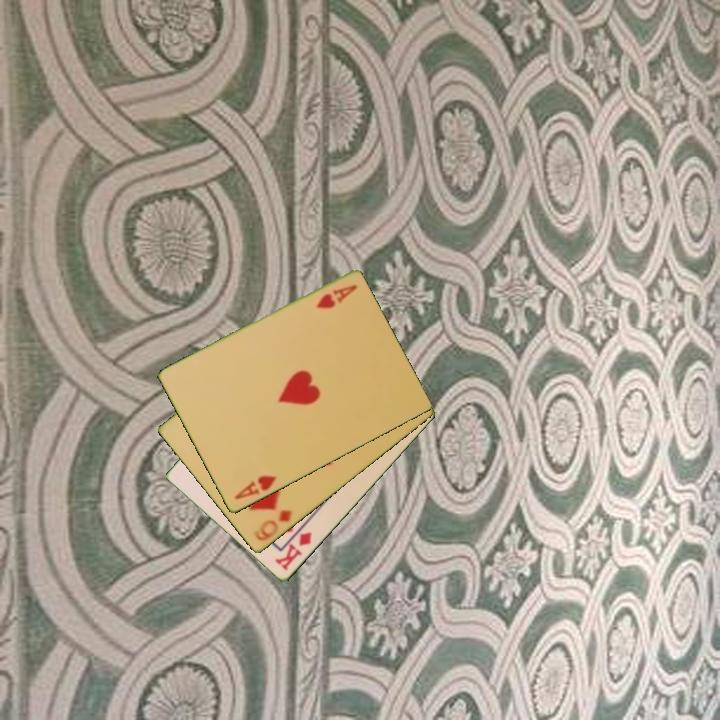6d: (250, 506, 295, 545)
Ah: (231, 472, 279, 503), (313, 281, 360, 312)
Kd: (271, 528, 315, 574)
